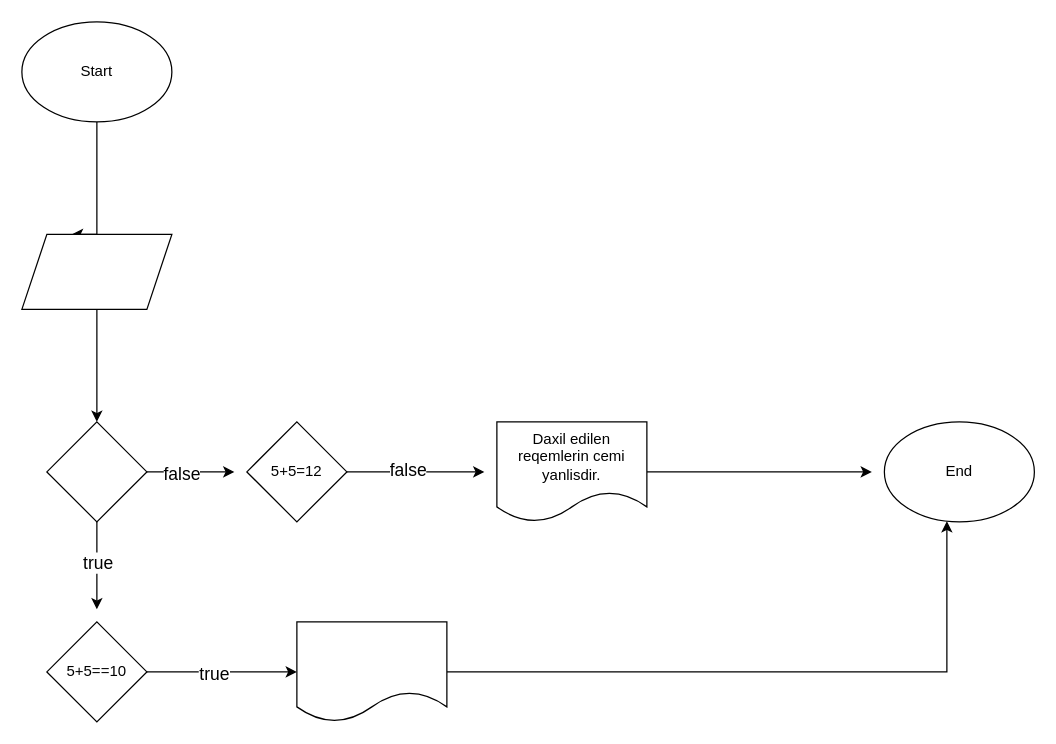
Some shapes in this 1056 by 744 pixel diagram are drawn without their labels. The centre of each missing label's shape, as x and y in pixels:
a+b=c: the point at 96,471
Daxil edilen reqemlerin cemi duzgundur.: the point at 371,671
n=55 a=5 b=5: the point at 96,271
